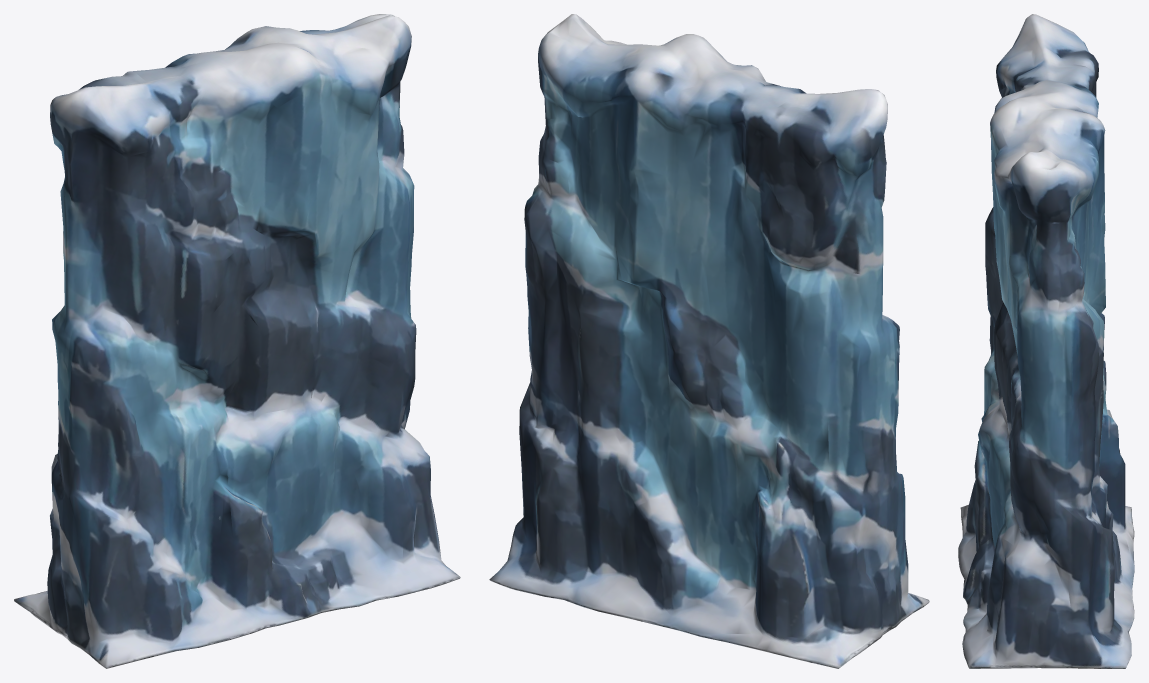
File: SM_Tripo_FrostSeaRampartPlain.glb
The picture shows the model from 3 angles, left to right: view 1: azimuth 30°, elevation 25°; view 2: azimuth 150°, elevation 25°; view 3: azimuth 270°, elevation 25°; orthographic projection. The views are drawn at different scales.
Parts seen in each view (by area): view 1: SM_Tripo_FrostSeaRampartPlain_LOD0; view 2: SM_Tripo_FrostSeaRampartPlain_LOD0; view 3: SM_Tripo_FrostSeaRampartPlain_LOD0.
Boxes of the visible parts, x1,y1,x2,y2 form: SM_Tripo_FrostSeaRampartPlain_LOD0: [14, 14, 460, 668]; SM_Tripo_FrostSeaRampartPlain_LOD0: [489, 14, 929, 668]; SM_Tripo_FrostSeaRampartPlain_LOD0: [958, 14, 1134, 668].
Bounding box in the file's own units: 5.99 × 8.67 × 2.76.
1 material, 1 textured.
